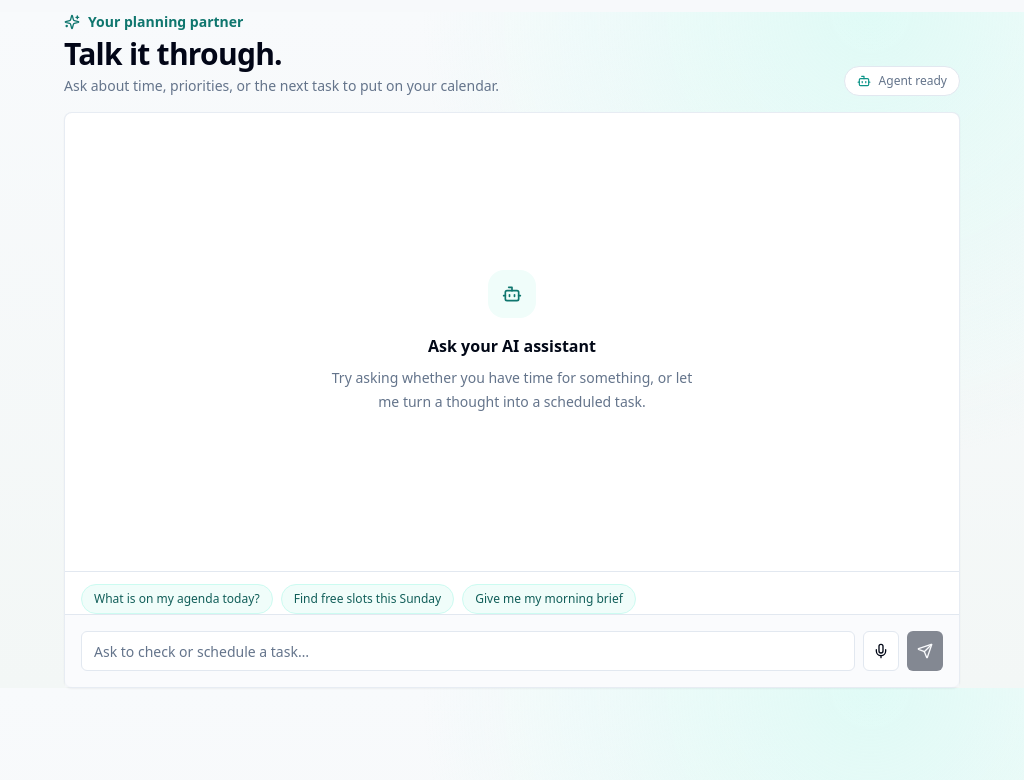
ChatPage › sends a message and displays the assistant reply in a bubble
Type "Check my day" into the field with placeholder "Ask to check or schedule a task…" at (468, 651), box [81, 631, 855, 671]
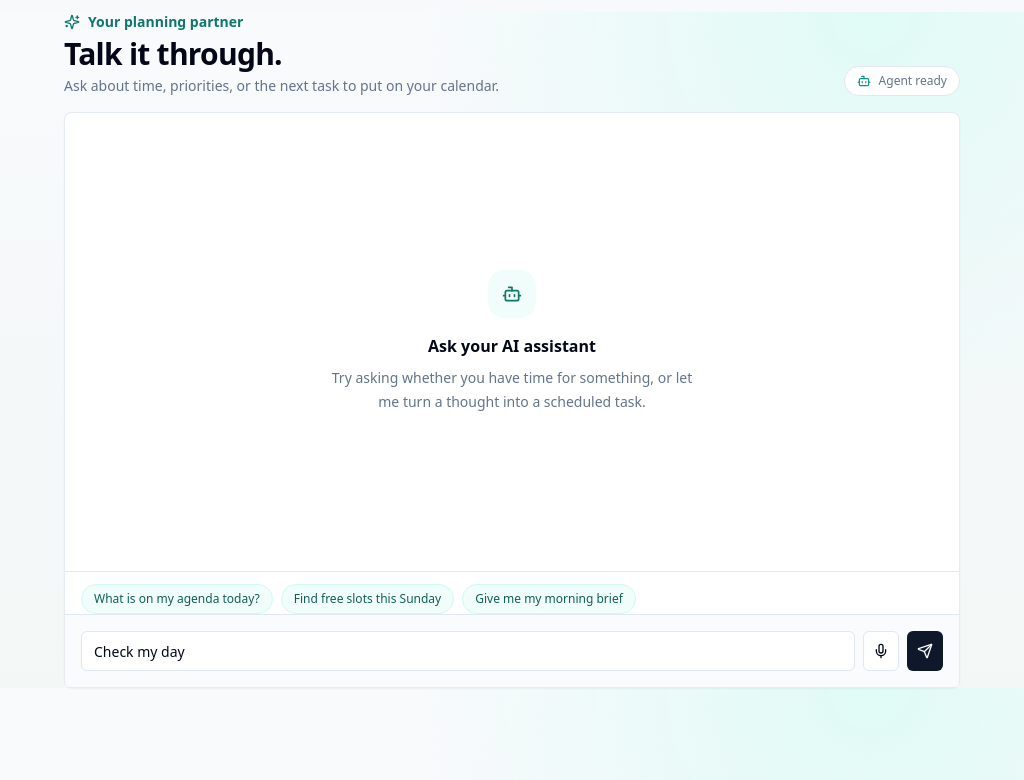
Click the button named "send" at (925, 651), box [907, 631, 943, 671]
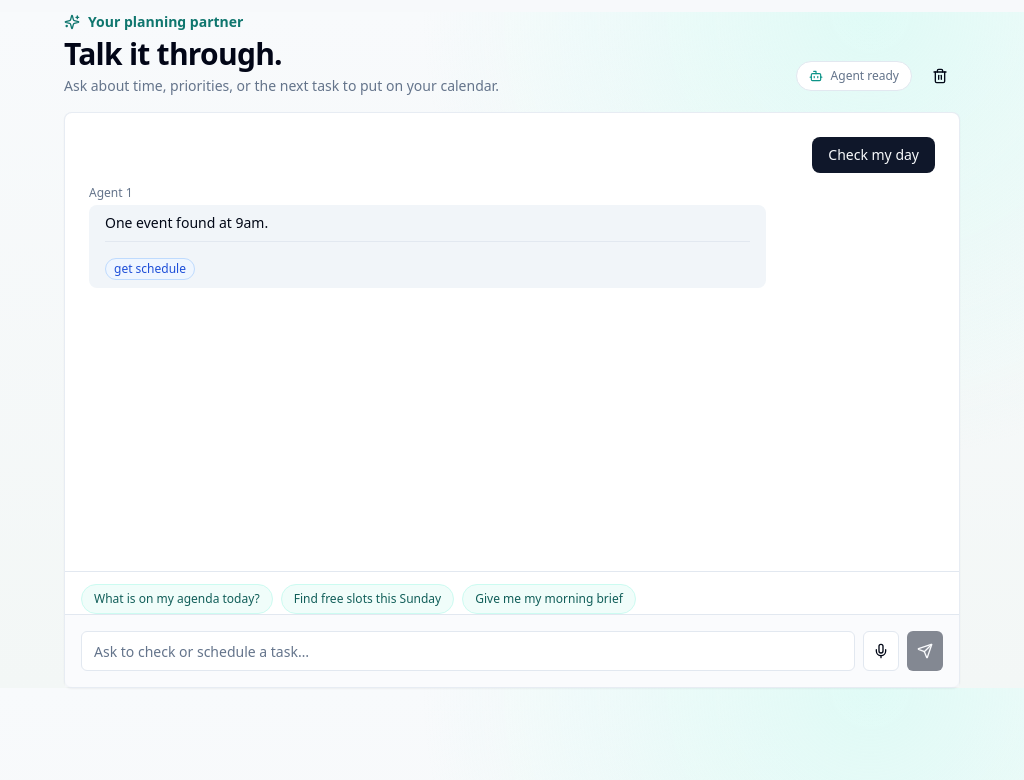
Check: the text "One event found at 9am." is shown, box [105, 213, 268, 232]
